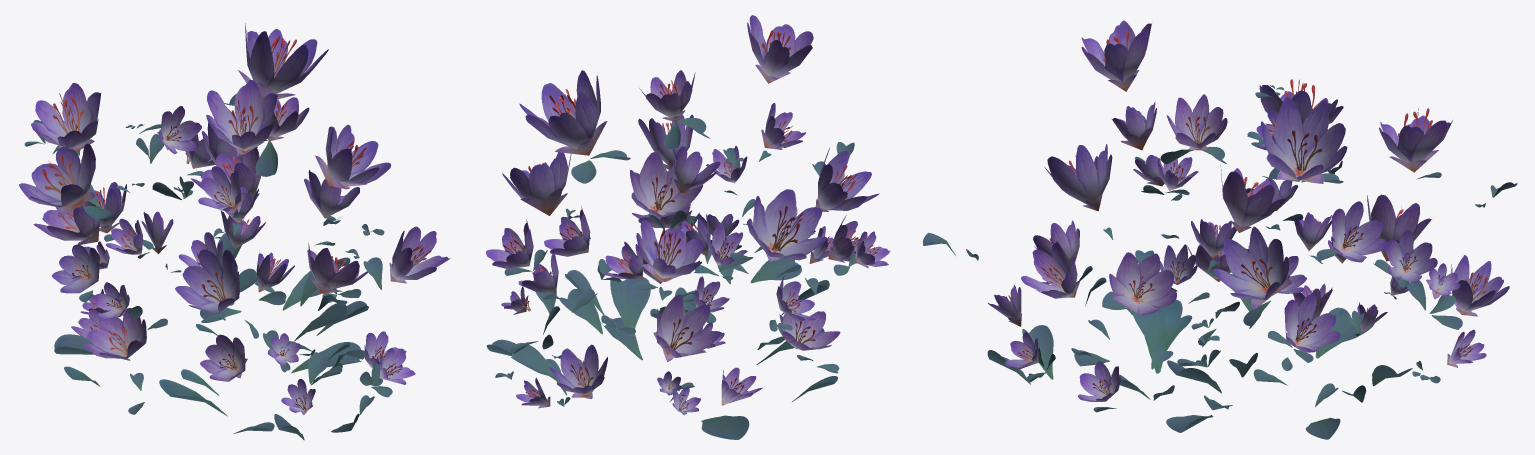
Rendered from Homeworld_Exterior_Dq_Plant_Flower_Oasis_02_Lod0.fbx.
3 views of the same model, side by side, from view 1: azimuth 30°, elevation 25°; view 2: azimuth 150°, elevation 25°; view 3: azimuth 270°, elevation 25° (orthographic). The views are drawn at different scales.
Visible parts, largest first — view 1: Homeworld_Exterior_Dq_Plant_Flower_Oasis_02_Lod0; view 2: Homeworld_Exterior_Dq_Plant_Flower_Oasis_02_Lod0; view 3: Homeworld_Exterior_Dq_Plant_Flower_Oasis_02_Lod0.
Boxes of the visible parts, bbox=[...] form: Homeworld_Exterior_Dq_Plant_Flower_Oasis_02_Lod0: bbox=[19, 23, 450, 440]; Homeworld_Exterior_Dq_Plant_Flower_Oasis_02_Lod0: bbox=[486, 15, 890, 439]; Homeworld_Exterior_Dq_Plant_Flower_Oasis_02_Lod0: bbox=[923, 20, 1517, 439].
Size of the model in its own units: 1.15 by 1.09 by 1.65.
